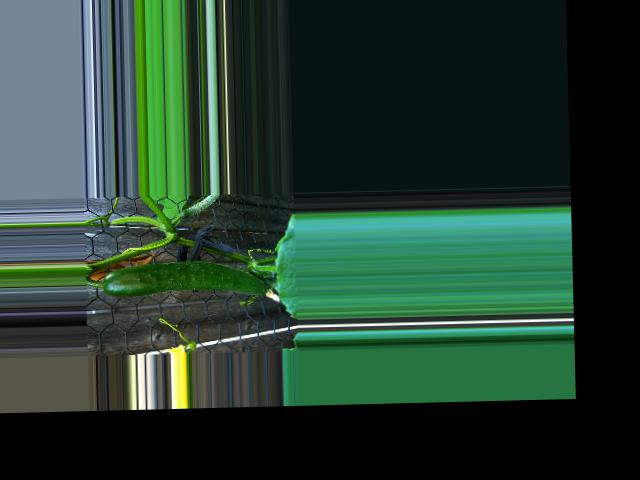cucumber: (102, 258, 266, 298)
